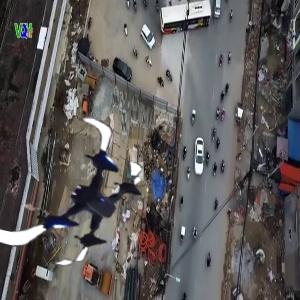drone: (3, 115, 162, 274)
